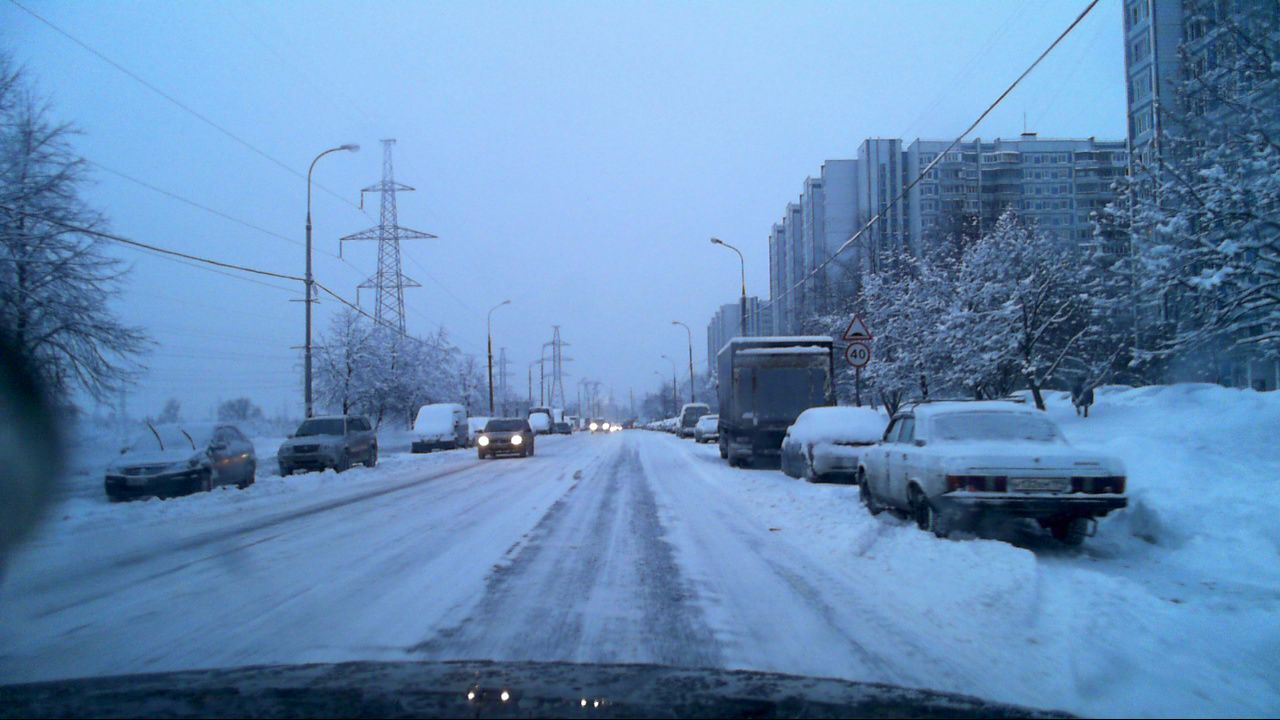speed_warning_40: (845, 341, 869, 365)
